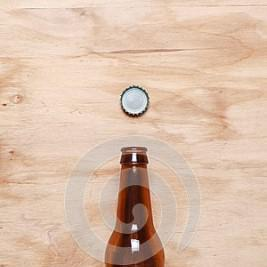beer: (105, 148, 167, 267)
